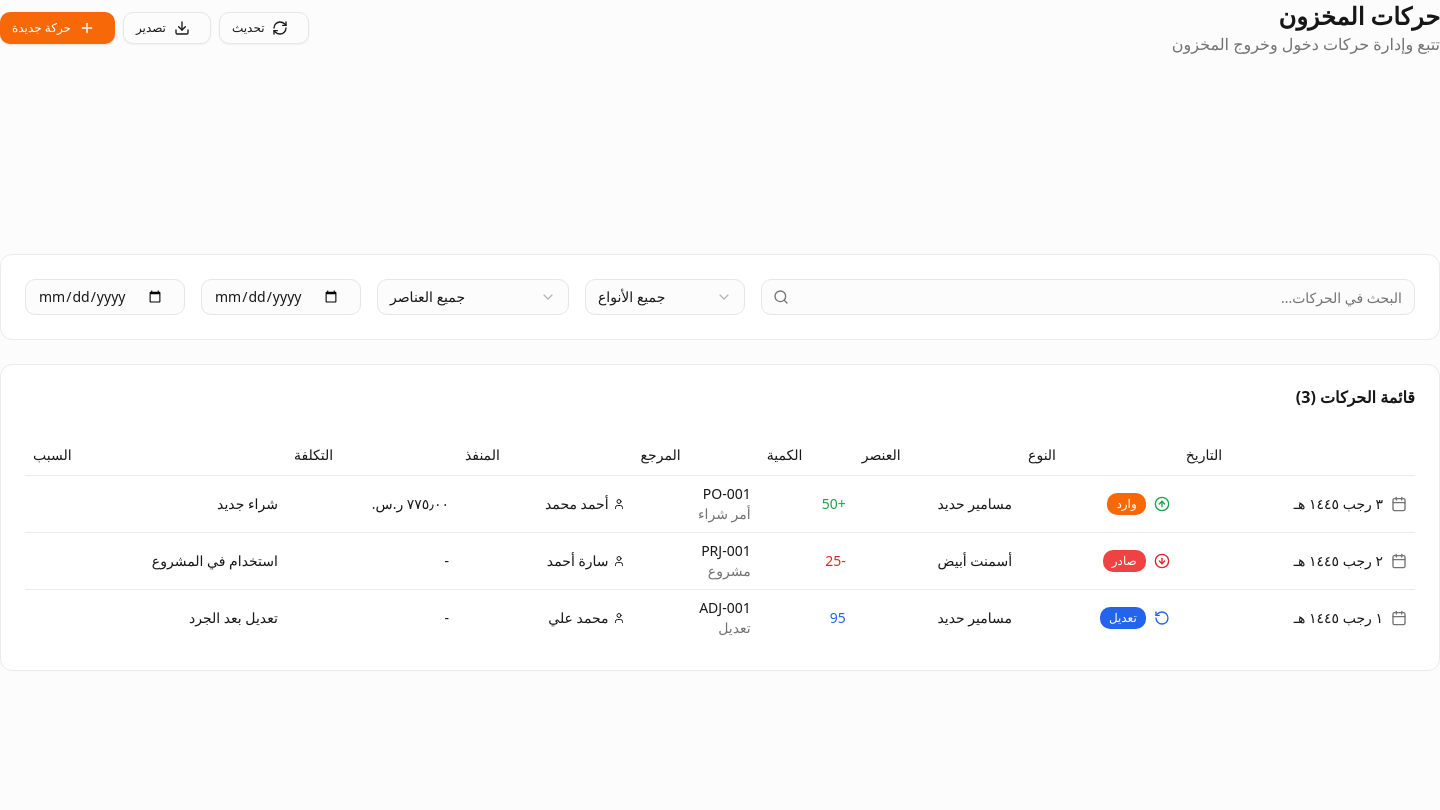
Scenario: StockMovement Component › Create Movement Dialog › should open create movement dialog
This screenshot has width=1440, height=810.
Click the button "حركة جديدة" at {"x": 58, "y": 28}, box [0,12,115,44]
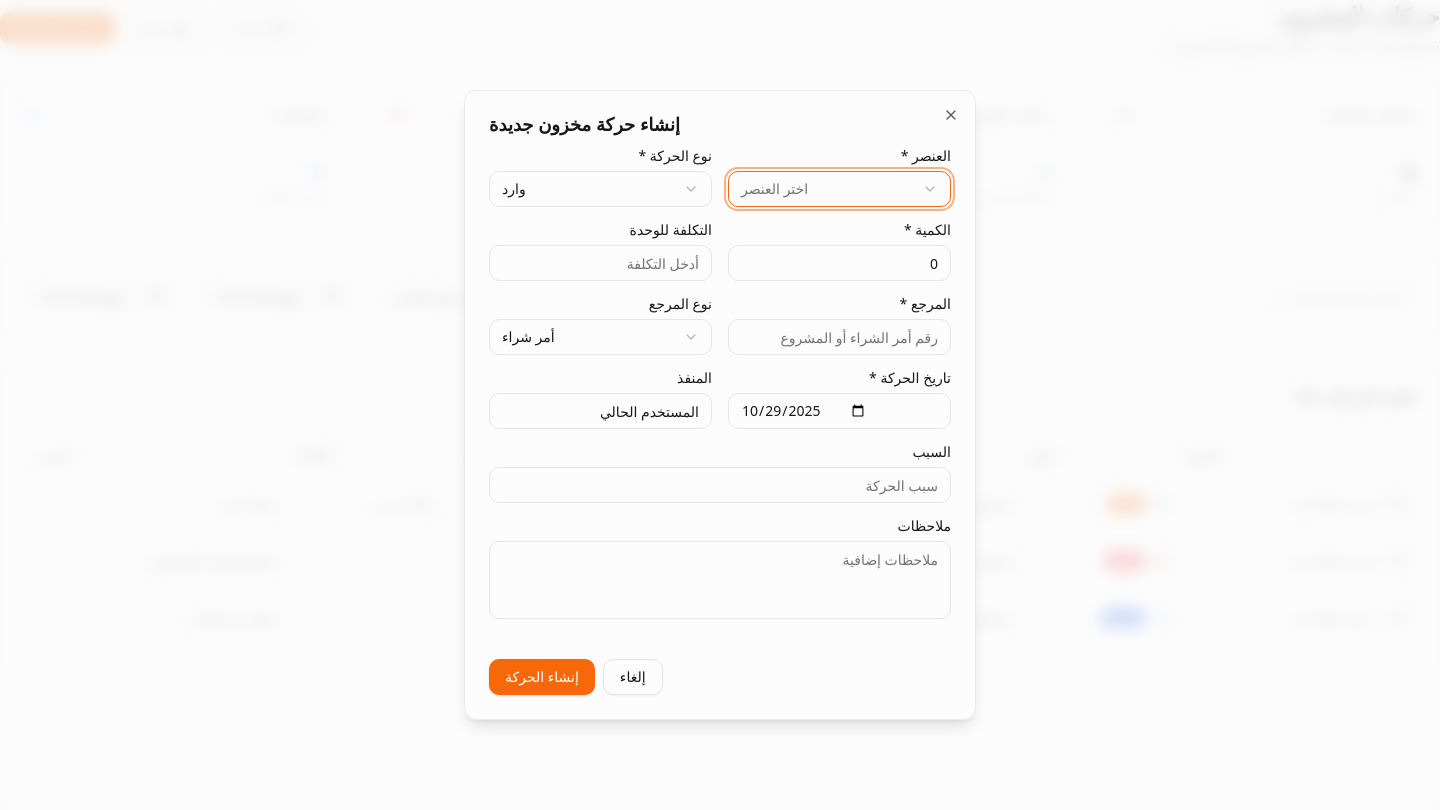
Expected: the heading "إنشاء حركة مخزون جديدة" is shown, [489,112,680,136]
